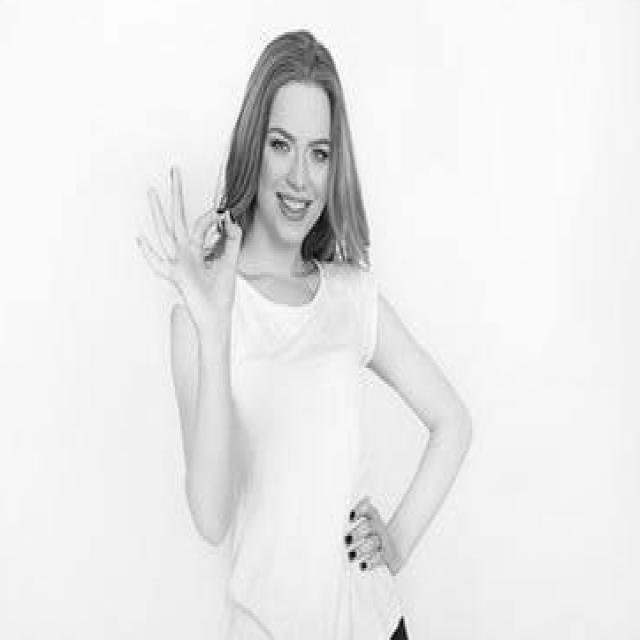perfect: (129, 156, 246, 362)
